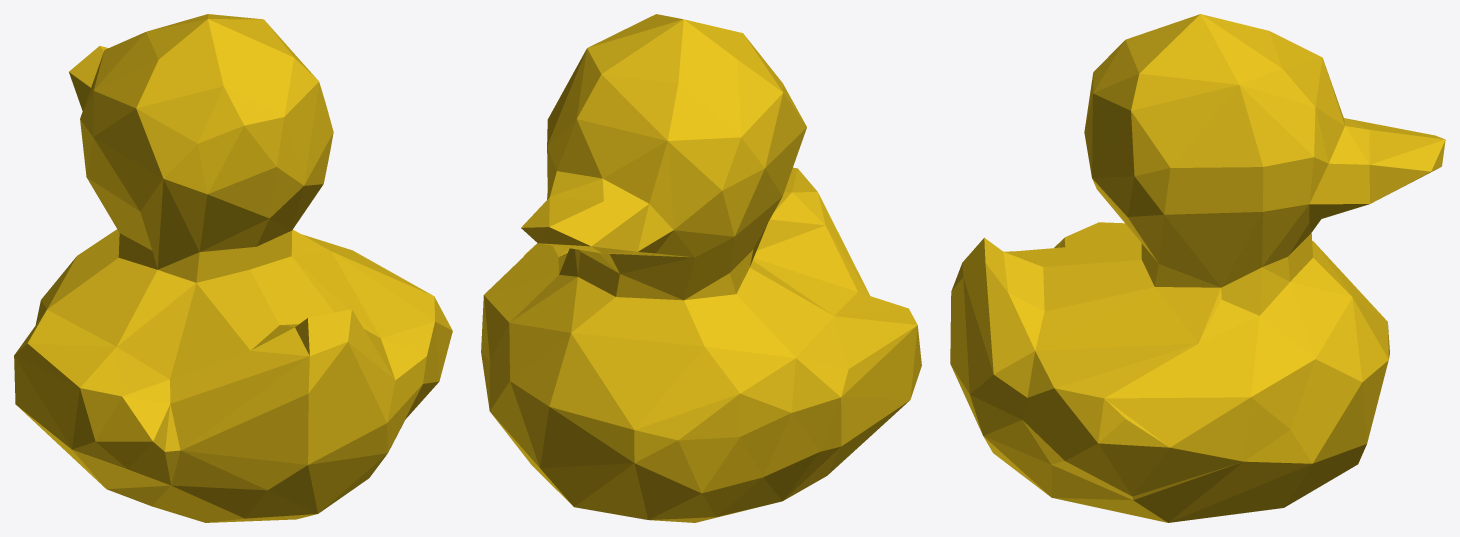
The model's file is duckhat.fbx.
3 renders of one model, left to right at view 1: azimuth 30°, elevation 25°; view 2: azimuth 150°, elevation 25°; view 3: azimuth 270°, elevation 25°, orthographic. The views are drawn at different scales.
Parts seen in each view (by area): view 1: 100001; view 2: 100001; view 3: 100001.
Boxes of the visible parts, <box> form: 100001: <box>14,14,452,522</box>; 100001: <box>481,14,921,522</box>; 100001: <box>950,14,1445,522</box>.
Size of the model in its own units: 35.01 by 40.06 by 39.19.
